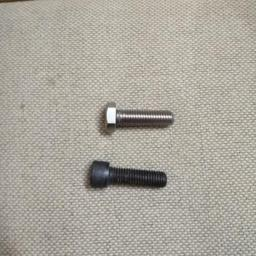screwtype1black: (89, 159, 167, 191)
screwtype2silver: (101, 101, 177, 135)
